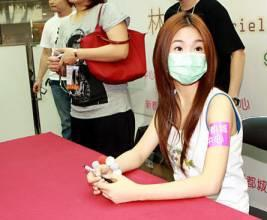OK: (167, 38, 213, 84)
